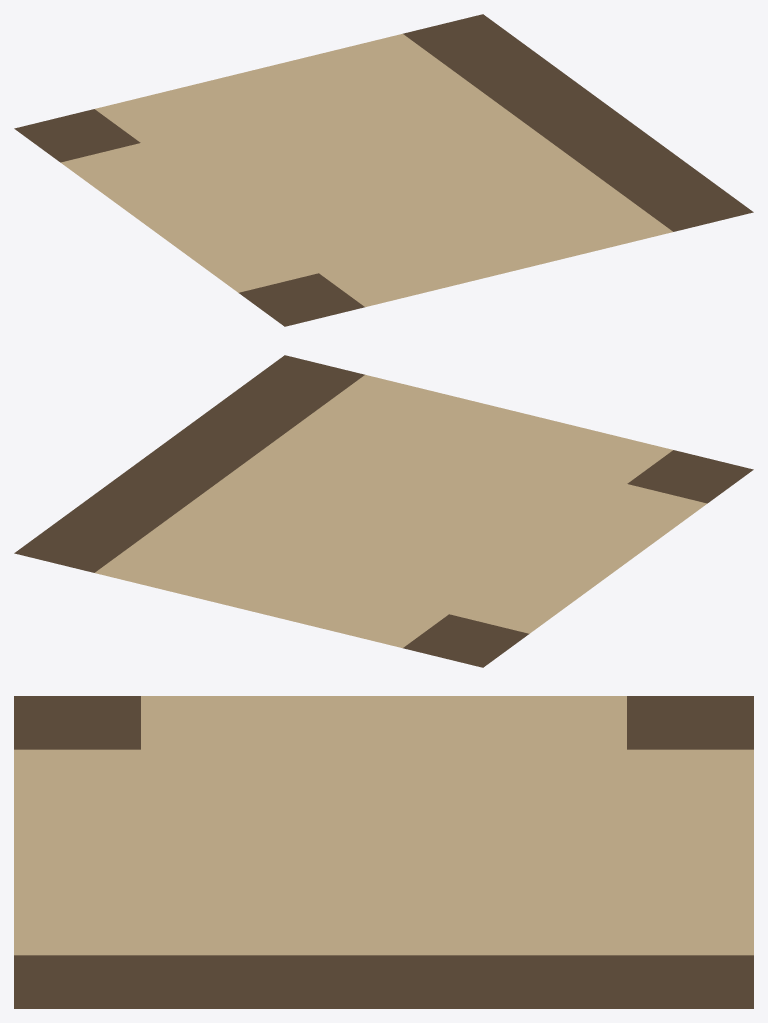
The model's file is M_FloorCrossT700x700Beige100-4_2.fbx.
The picture shows the model from 3 angles, top to bottom: view 1: azimuth 30°, elevation 25°; view 2: azimuth 150°, elevation 25°; view 3: azimuth 270°, elevation 25°; orthographic projection. The views are drawn at different scales.
Parts seen in each view (by area): view 1: M_FloorCrossT700x700Beige100-4_2; view 2: M_FloorCrossT700x700Beige100-4_2; view 3: M_FloorCrossT700x700Beige100-4_2.
Part boxes in pixels (x1,y1,x2,y2): M_FloorCrossT700x700Beige100-4_2: (14, 14, 753, 326); M_FloorCrossT700x700Beige100-4_2: (14, 355, 753, 667); M_FloorCrossT700x700Beige100-4_2: (14, 696, 753, 1008).
Bounding box in the file's own units: 700 × 700 × 6.53e-22.
